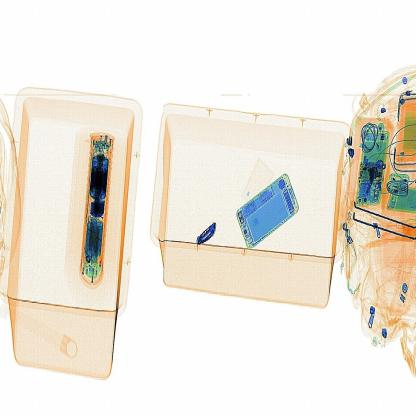knife: (193, 222, 221, 252)
